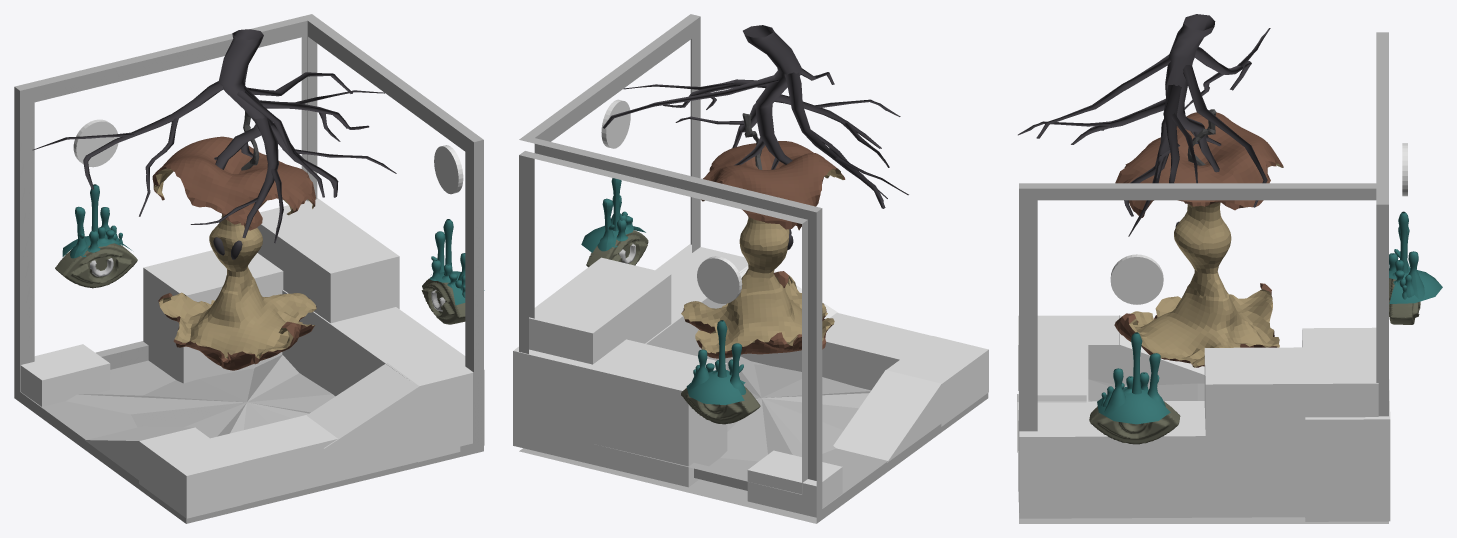
Rendered from text_wutonsence003.fbx.
3 views of the same model, side by side, from view 1: azimuth 30°, elevation 25°; view 2: azimuth 150°, elevation 25°; view 3: azimuth 270°, elevation 25° (orthographic). The views are drawn at different scales.
Parts seen in each view (by area): view 1: 立方体, Line002.006, 立方体.004, 立方体.005, 立方体.001, tree, 立方体.006, 立方体.007, 立方体.009, 立方体.010, eye_out001.003, 立方体.008 (+5 smaller); view 2: 立方体, 立方体.006, Line002.006, 立方体.005, tree, 立方体.008, 立方体.001, 立方体.007, 立方体.010, 立方体.004, eyeman, eyeman.001 (+4 smaller); view 3: 立方体.004, 立方体.005, 立方体, Line002.006, 立方体.006, tree, 立方体.001, eyeman.001, 立方体.007, eyeman, 柱体.002, 立方体.008 (+3 smaller).
Part boxes in pixels (x1,y1,x2,y2): 立方体: (14, 14, 483, 523); Line002.006: (152, 136, 316, 370); 立方体.004: (282, 290, 484, 462); 立方体.005: (257, 198, 399, 323); 立方体.001: (178, 414, 417, 504); tree: (32, 29, 396, 243); 立方体.006: (143, 250, 283, 383); 立方体.007: (139, 428, 242, 518); 立方体.009: (306, 362, 434, 448); 立方体.010: (20, 344, 110, 406); eye_out001.003: (55, 243, 137, 288); 立方体.008: (85, 426, 195, 479); 立方体: (519, 14, 988, 523); 立方体.006: (513, 339, 727, 487); Line002.006: (681, 141, 845, 358); 立方体.005: (529, 257, 671, 364); tree: (602, 25, 908, 208); 立方体.008: (833, 370, 949, 462); 立方体.001: (740, 313, 963, 390); 立方体.007: (886, 336, 988, 426); 立方体.010: (747, 450, 842, 517); 立方体.004: (645, 244, 748, 360); eyeman: (686, 320, 745, 404); eyeman.001: (581, 178, 645, 252); 立方体.004: (1018, 401, 1305, 518); 立方体.005: (1204, 347, 1378, 490); 立方体: (1019, 32, 1388, 523); Line002.006: (1114, 112, 1283, 367); 立方体.006: (1302, 327, 1390, 521); tree: (1018, 14, 1270, 236); 立方体.001: (1018, 328, 1088, 401); eyeman.001: (1097, 332, 1170, 424); 立方体.007: (1018, 315, 1120, 390); eyeman: (1389, 211, 1442, 303); 柱体.002: (1110, 254, 1163, 304); 立方体.008: (1103, 315, 1204, 385).
Size of the model in its own units: 1341 by 1307 by 1192.
